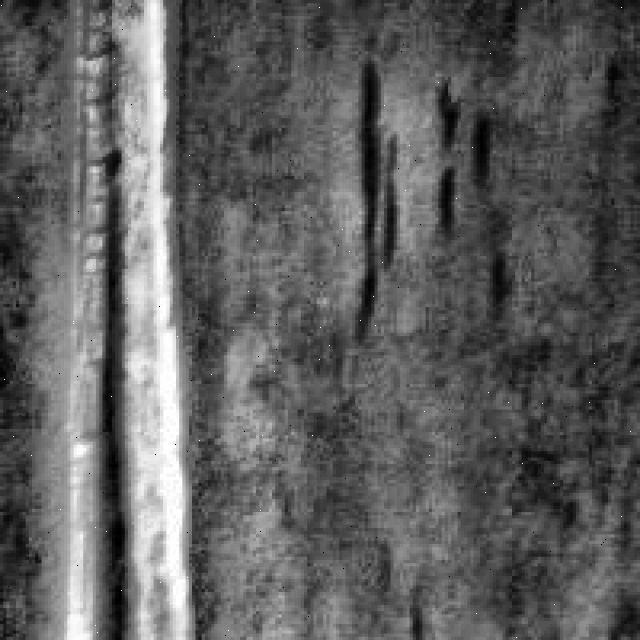Inclusion: (48, 0, 192, 630)
Patches: (342, 58, 400, 332), (426, 80, 486, 221)
